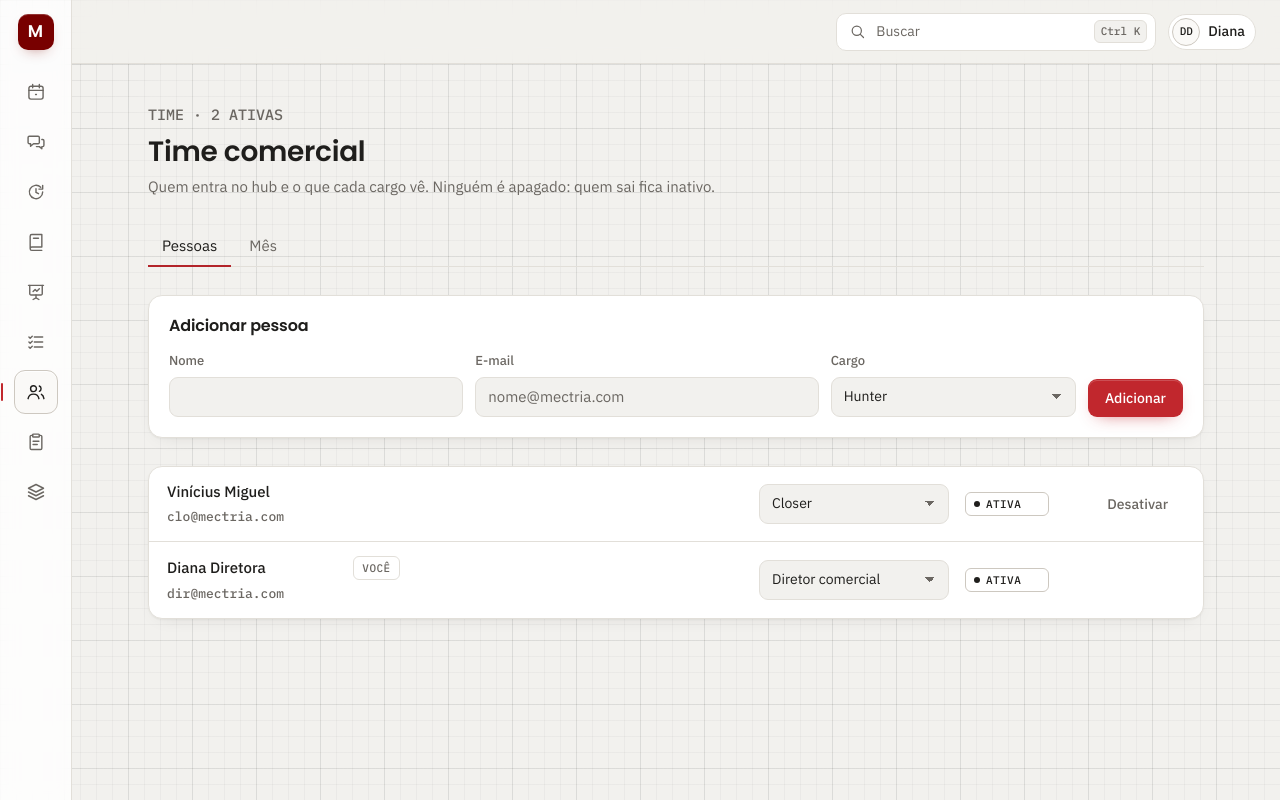
Test: adicionar pessoa manda os dados, mostra na lista e avisa
Type "Rita" into the field labelled "Nome" at (316, 397), box 169,377 -> 463,417
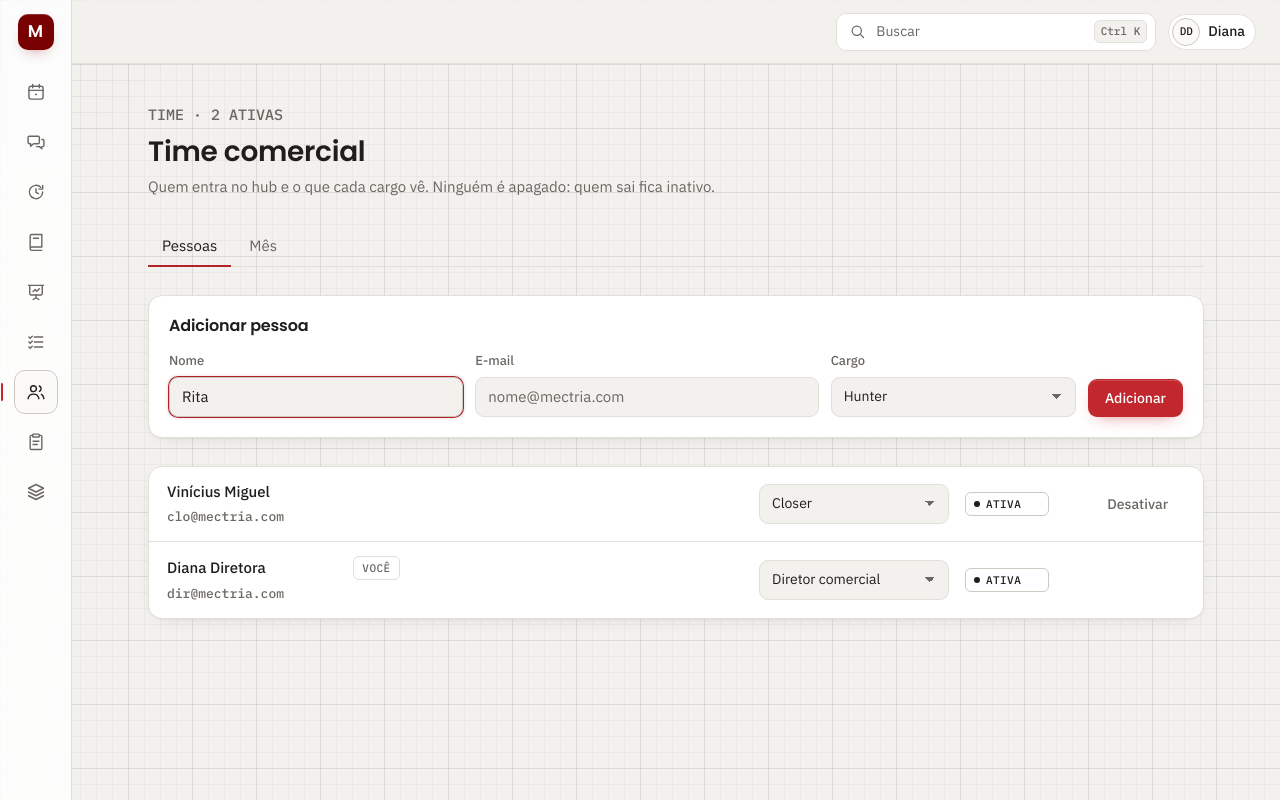
Type "rita@mectria.com" into the field labelled "E-mail" at (647, 397), box 475,377 -> 819,417
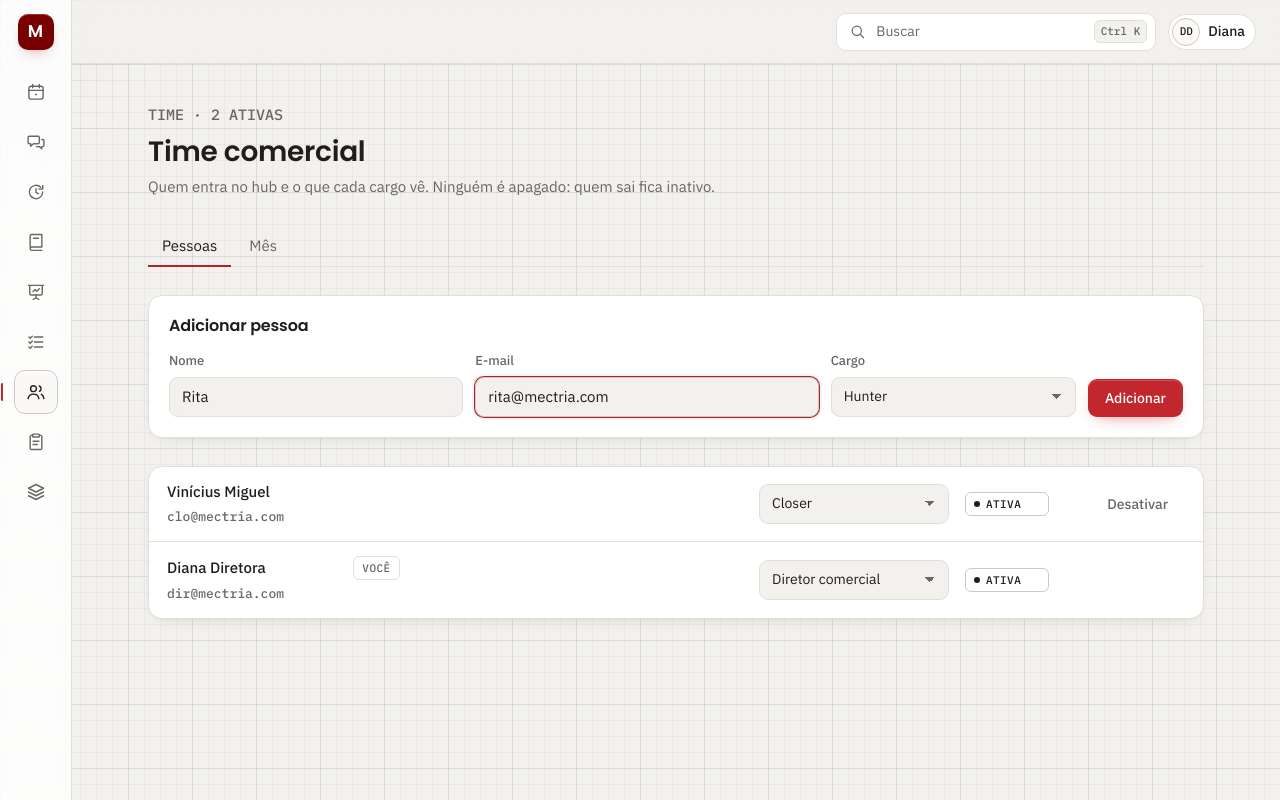
Select "Projetos" in the dropdown labelled "Cargo" at (953, 397), box 831,377 -> 1076,417
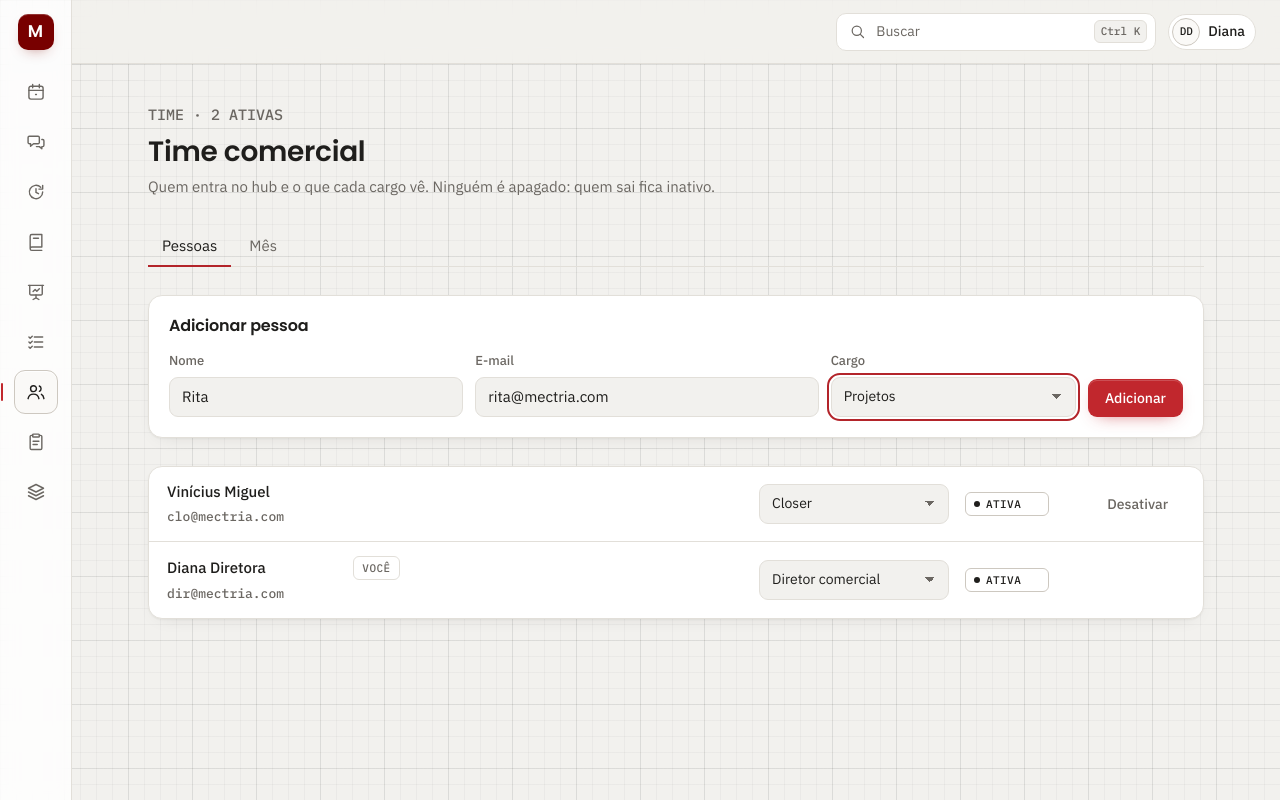
Click the button "Adicionar" at (1135, 398), box 1088,379 -> 1183,417
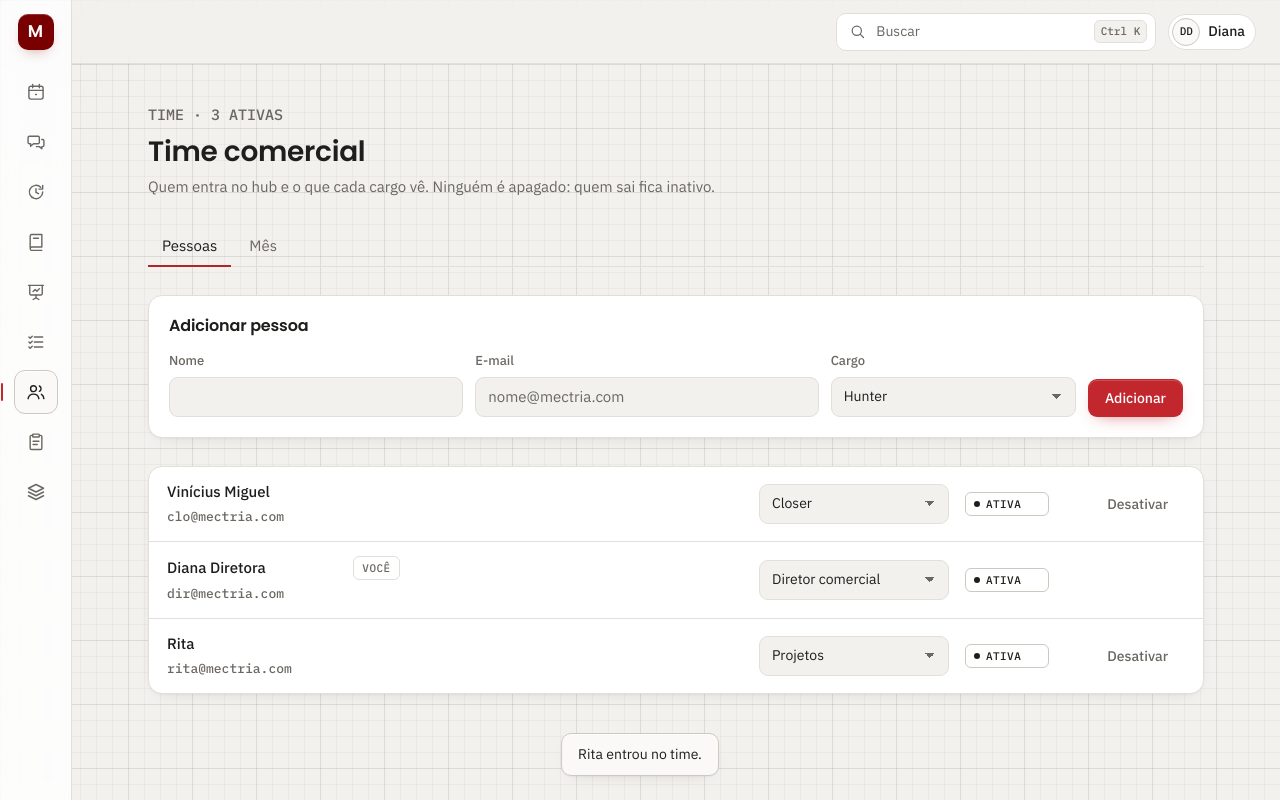
Expected: the text "rita@mectria.com" is shown, 167,660 -> 292,677
Expected: the message reads "Rita entrou no time.", 578,745 -> 702,763
Expected: the field labelled "Nome" is empty, 169,377 -> 463,417
